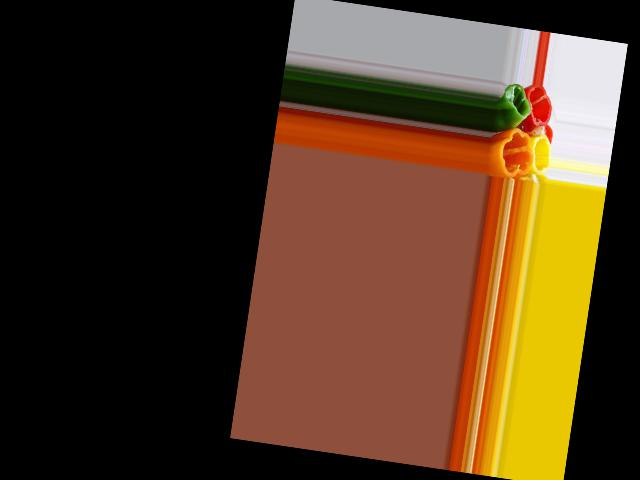bell_pepper: (524, 86, 555, 128)
